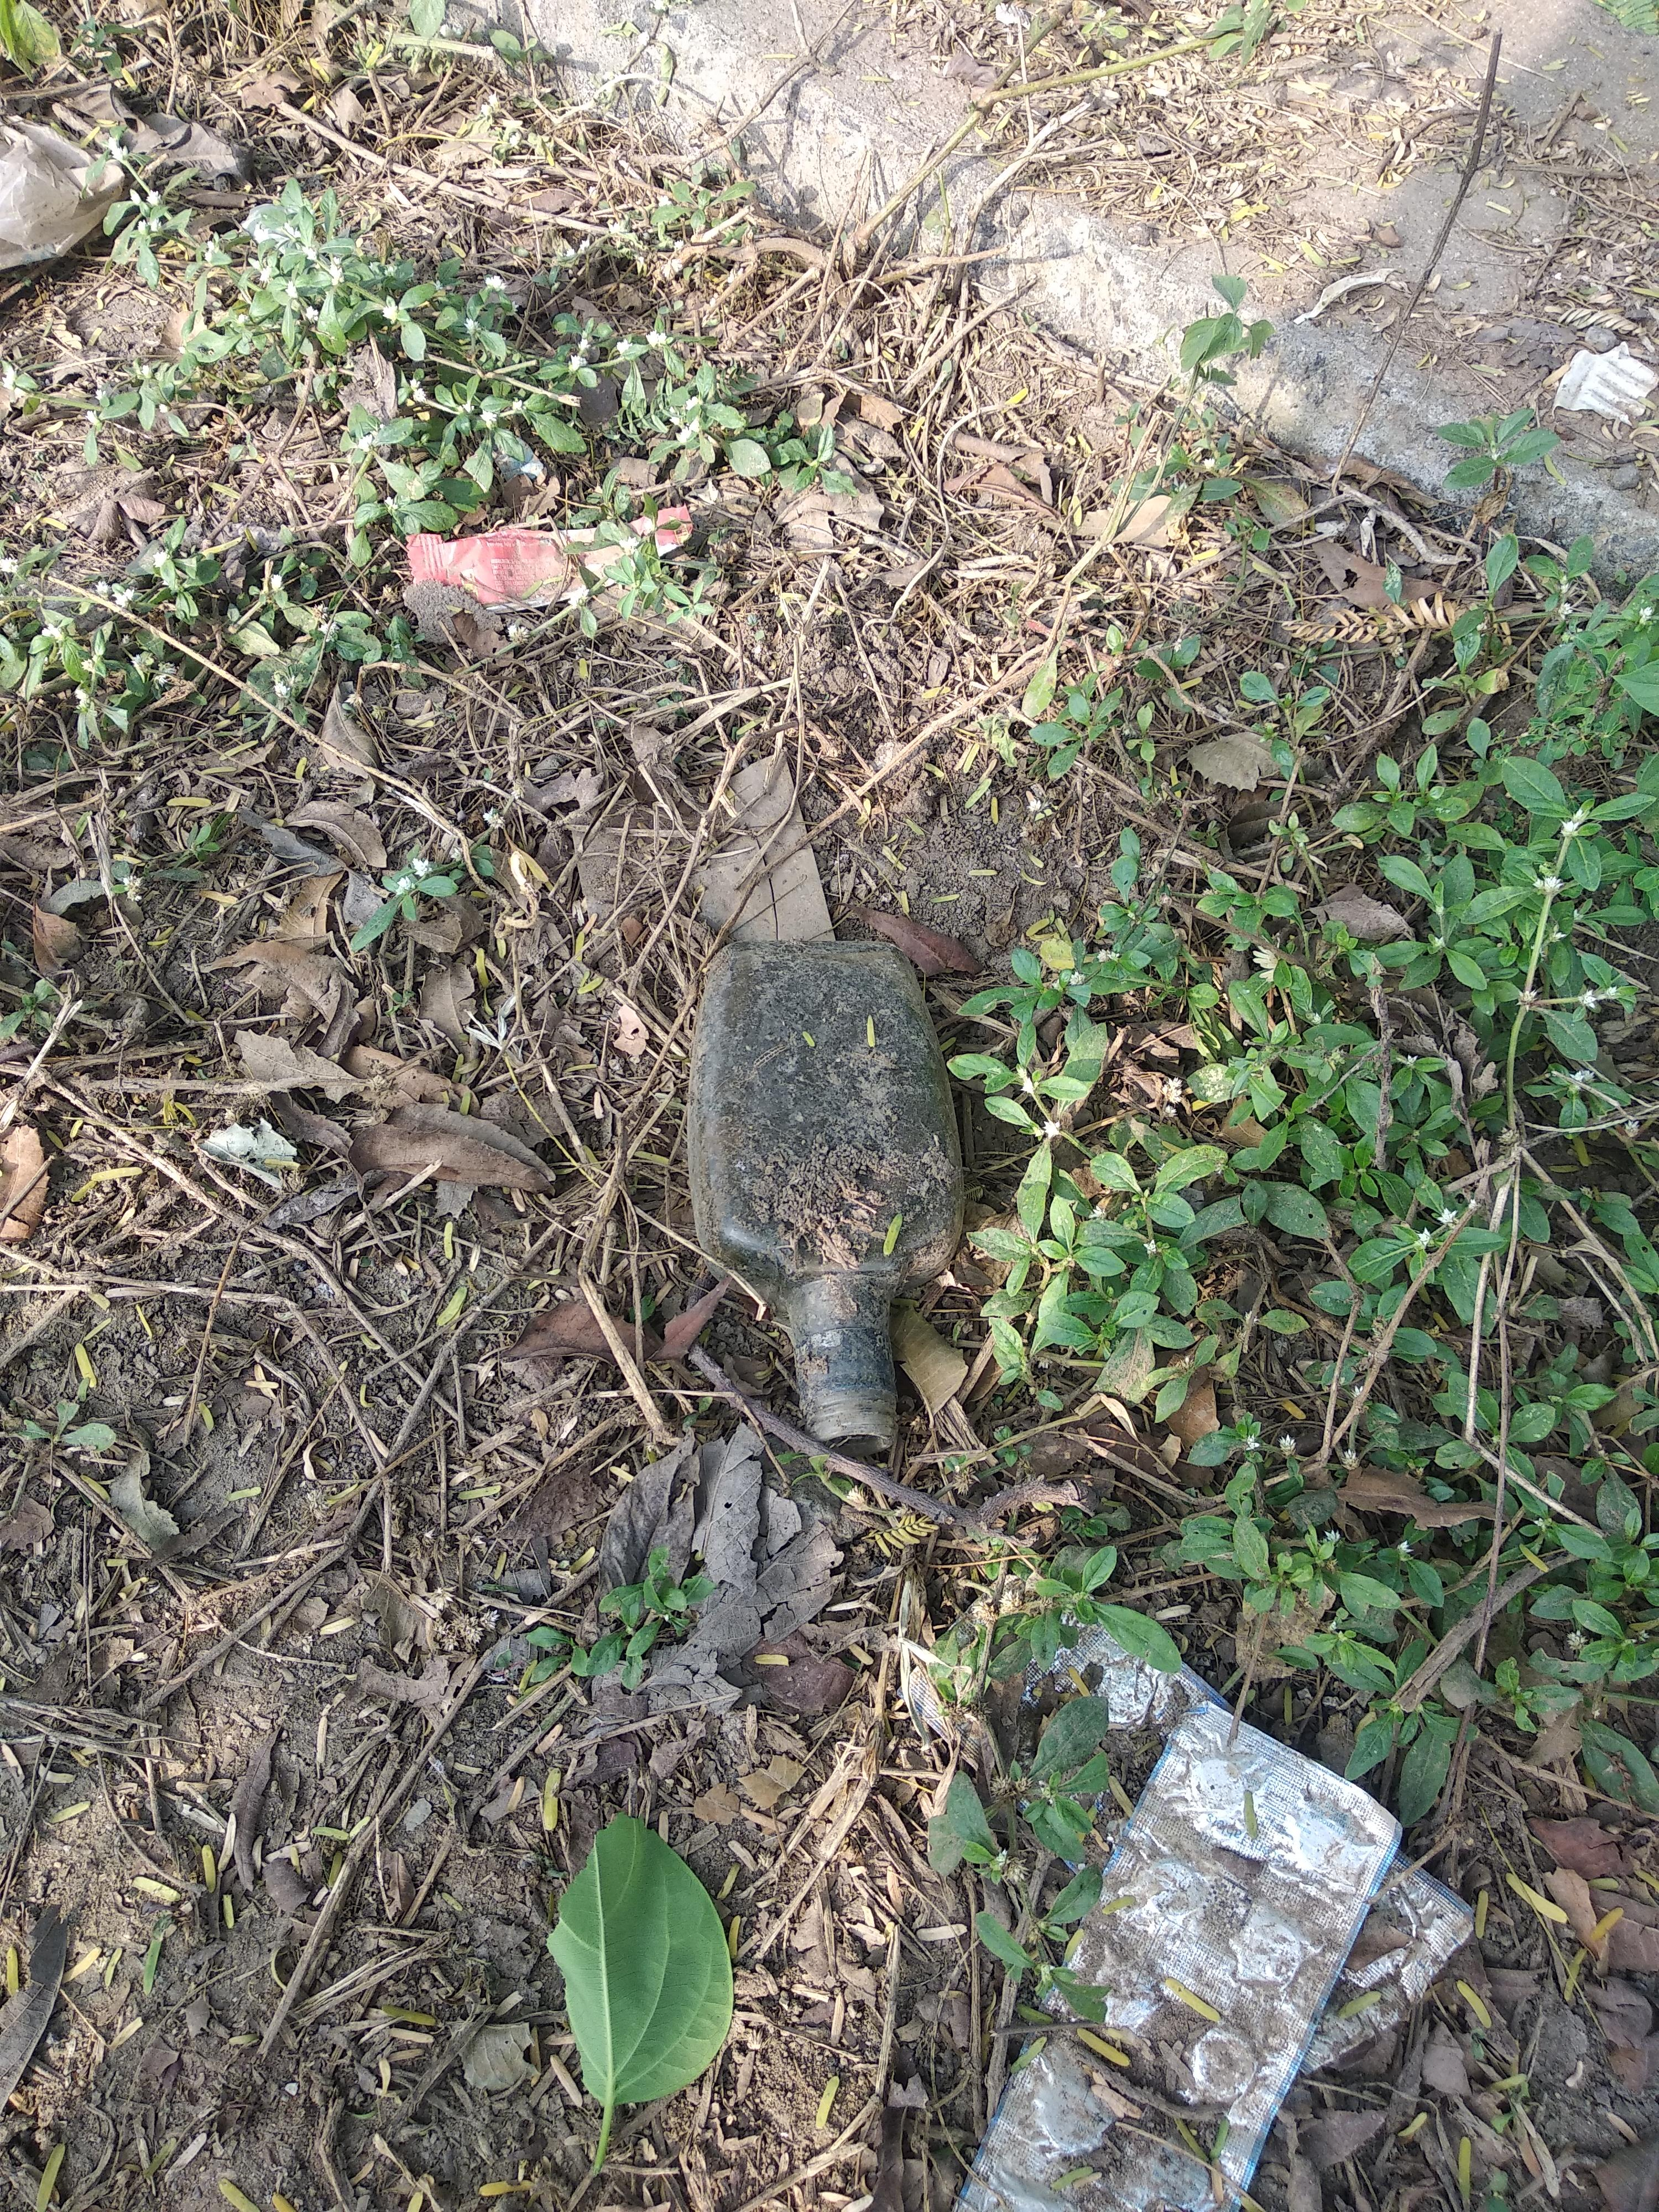trash: (962, 1667, 1476, 2212), (674, 920, 986, 1501)
